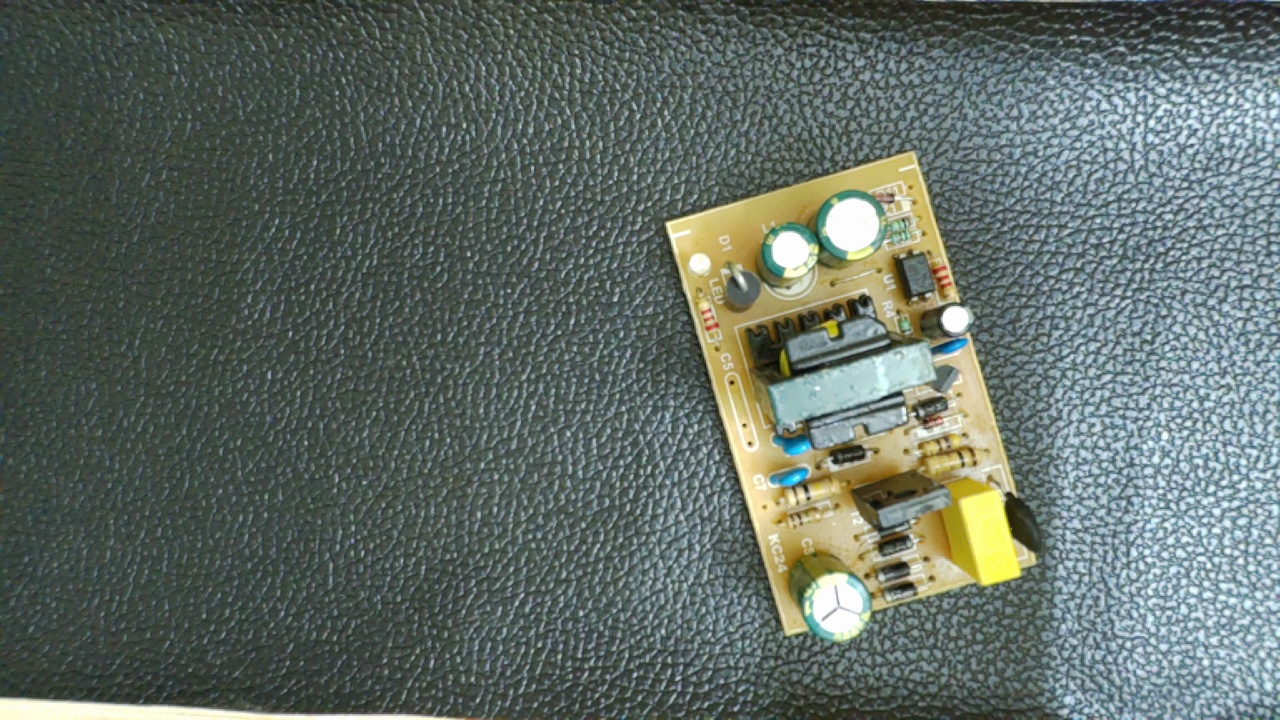fuse: (992, 474, 1049, 561)
hv_capacitor: (783, 542, 872, 645)
optocoupler: (890, 242, 941, 306)
